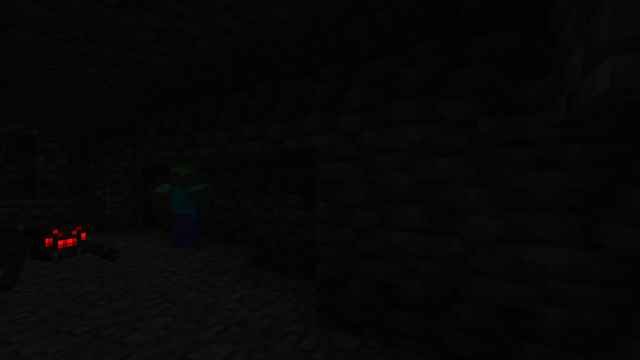araignees: (3, 213, 109, 286)
zombies: (164, 164, 205, 257)
